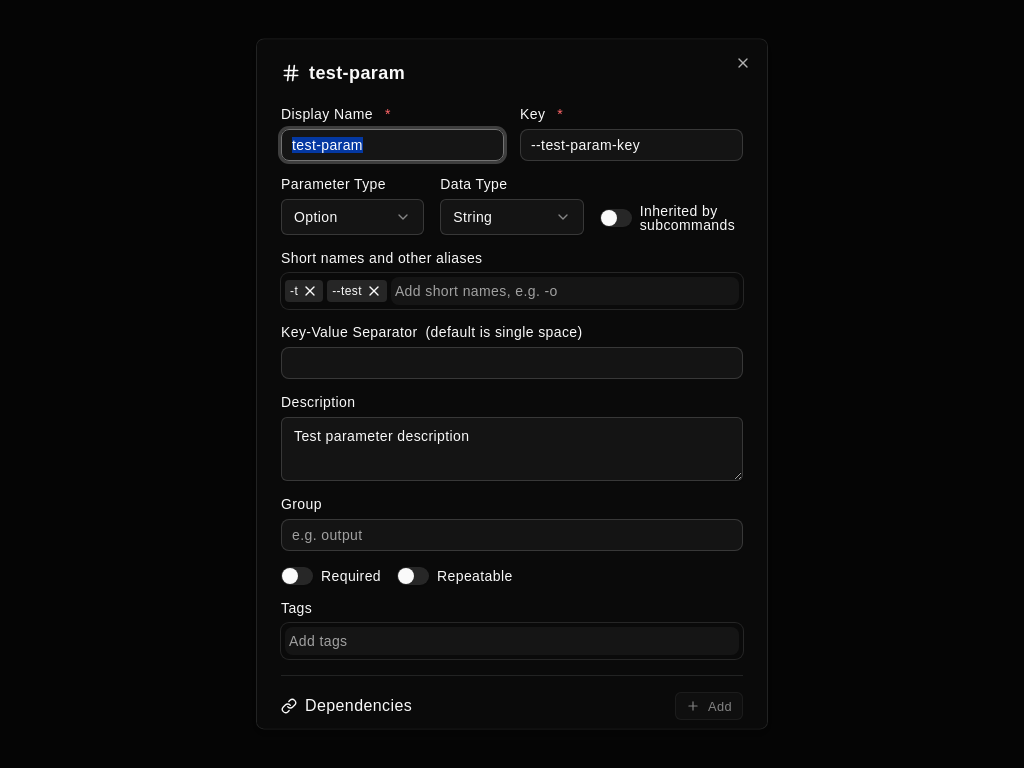
Test case: ParameterDetailsDialog - Form Fields › validates empty parameter name
Clear the field showing "test-param" at {"x": 392, "y": 145}, box x1=281 y1=129 x2=504 y2=161
(page scrolled)
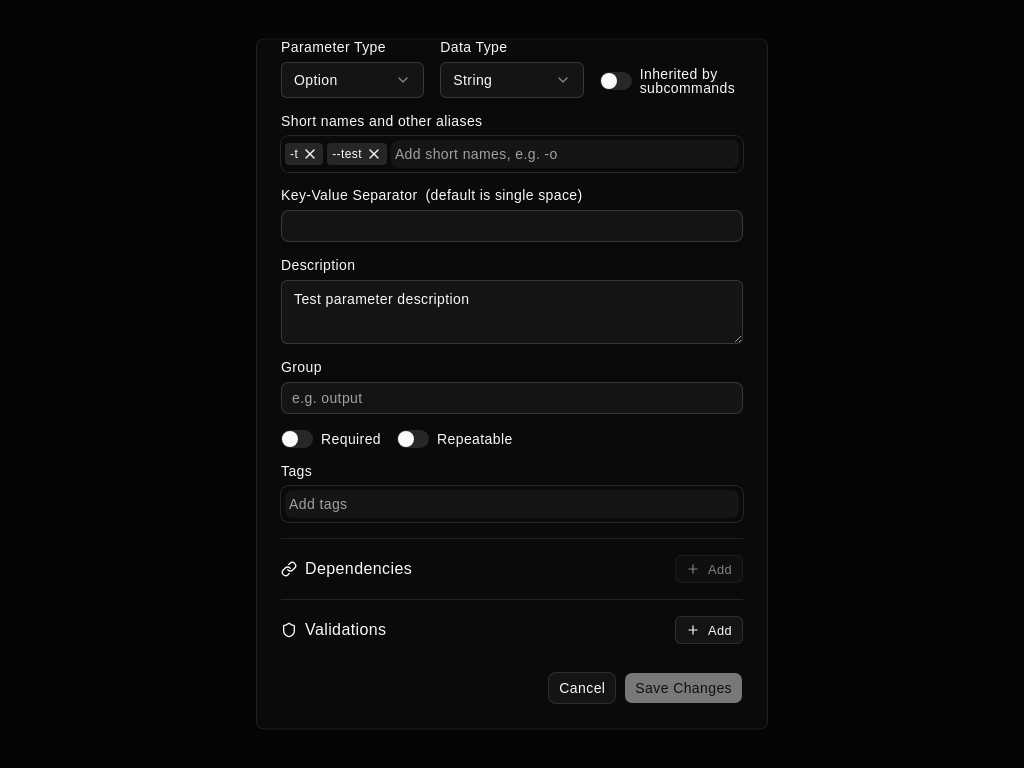
Check: the button "Save Changes" is disabled, box x1=624 y1=673 x2=743 y2=705
